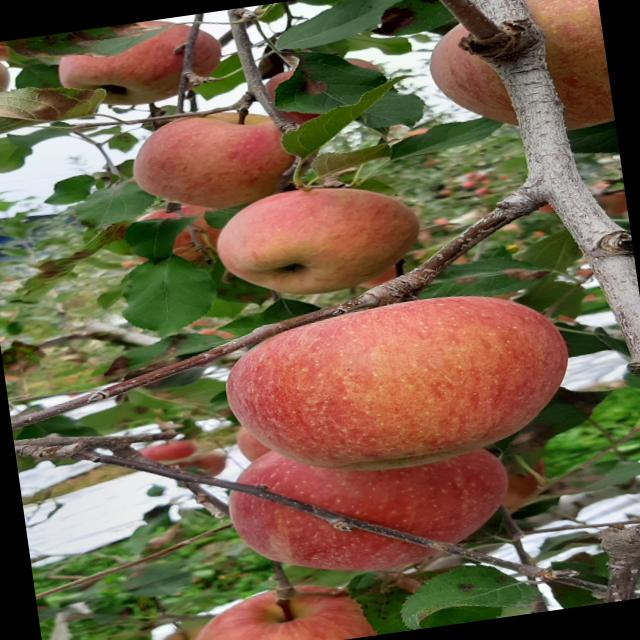fresh: (187, 275, 596, 507), (202, 167, 446, 311)
